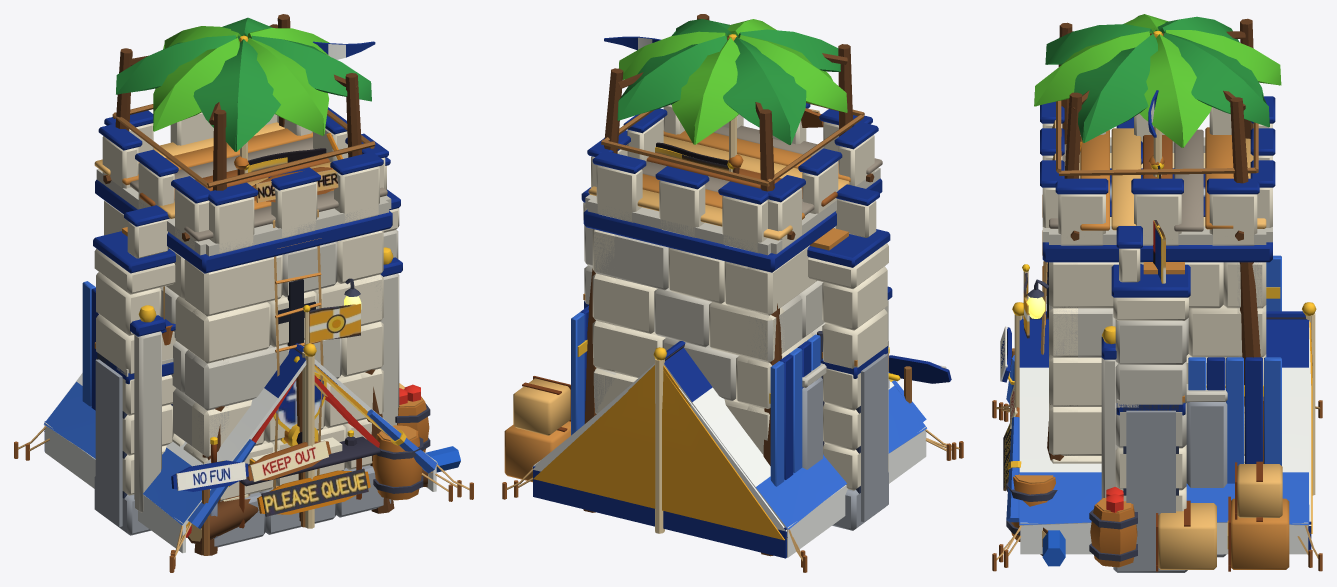
Rendered from camp.glb.
3 views of the same model, side by side, from view 1: azimuth 30°, elevation 25°; view 2: azimuth 150°, elevation 25°; view 3: azimuth 270°, elevation 25° (orthographic). The views are drawn at different scales.
Visible parts, largest first — view 1: NavyFortTower, Lookout, NavyFortGate, TentNavy, TentCompany, TentBrethren, NavyFortWall, Campfire, FlagBrethren; view 2: NavyFortTower, Lookout, TentCompany, NavyFortGate, TentNavy, NavyFortWall, FlagBrethren; view 3: NavyFortTower, Lookout, NavyFortGate, TentNavy, TentCompany, NavyFortWall, TentBrethren, FlagNavy.
Part boxes in pixels (x1,y1,x2,y2): NavyFortTower: [95, 35, 392, 547]; Lookout: [94, 14, 394, 555]; NavyFortGate: [82, 157, 402, 535]; TentNavy: [14, 343, 473, 572]; TentCompany: [44, 304, 460, 568]; TentBrethren: [25, 356, 461, 565]; NavyFortWall: [94, 317, 175, 526]; Campfire: [187, 469, 428, 544]; FlagBrethren: [234, 148, 326, 175]; NavyFortTower: [583, 34, 882, 453]; Lookout: [583, 14, 882, 556]; TentCompany: [504, 344, 956, 540]; NavyFortGate: [571, 130, 892, 530]; TentNavy: [502, 341, 963, 572]; NavyFortWall: [583, 293, 888, 521]; FlagBrethren: [656, 142, 743, 173]; NavyFortTower: [1026, 31, 1275, 463]; Lookout: [1034, 14, 1281, 555]; NavyFortGate: [1101, 117, 1281, 572]; TentNavy: [992, 302, 1322, 571]; TentCompany: [999, 264, 1315, 571]; NavyFortWall: [1116, 384, 1227, 572]; TentBrethren: [1004, 384, 1312, 567]; FlagNavy: [1151, 165, 1163, 283].
Bounding box in the file's own units: 4.68 × 6.44 × 4.01.
7 materials, 4 textured.
